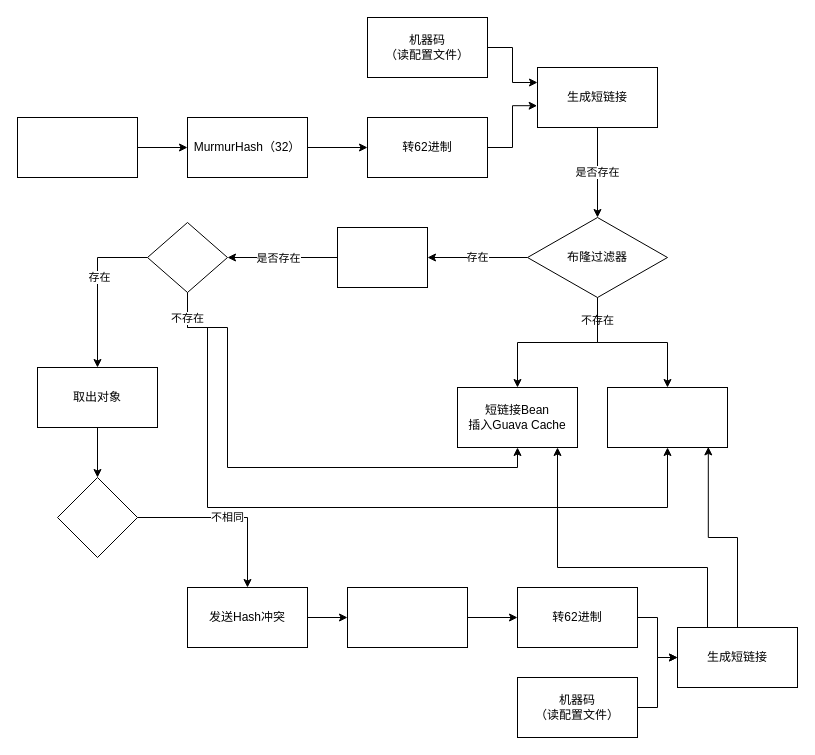
This 815x755 diagram has some shape labels left out. Here are the shapes that lost their labels. From the top down, the box of each, then its label:
(16, 116, 138, 178): 长链接
(146, 222, 228, 292): Guava Cache
(336, 226, 428, 288): 去Guava Cache 中取对象
(606, 386, 728, 448): 短链接插入布隆过滤器
(56, 476, 138, 558): 长链接是否相同
(346, 586, 468, 648): 加标识符后 MurmurHash
